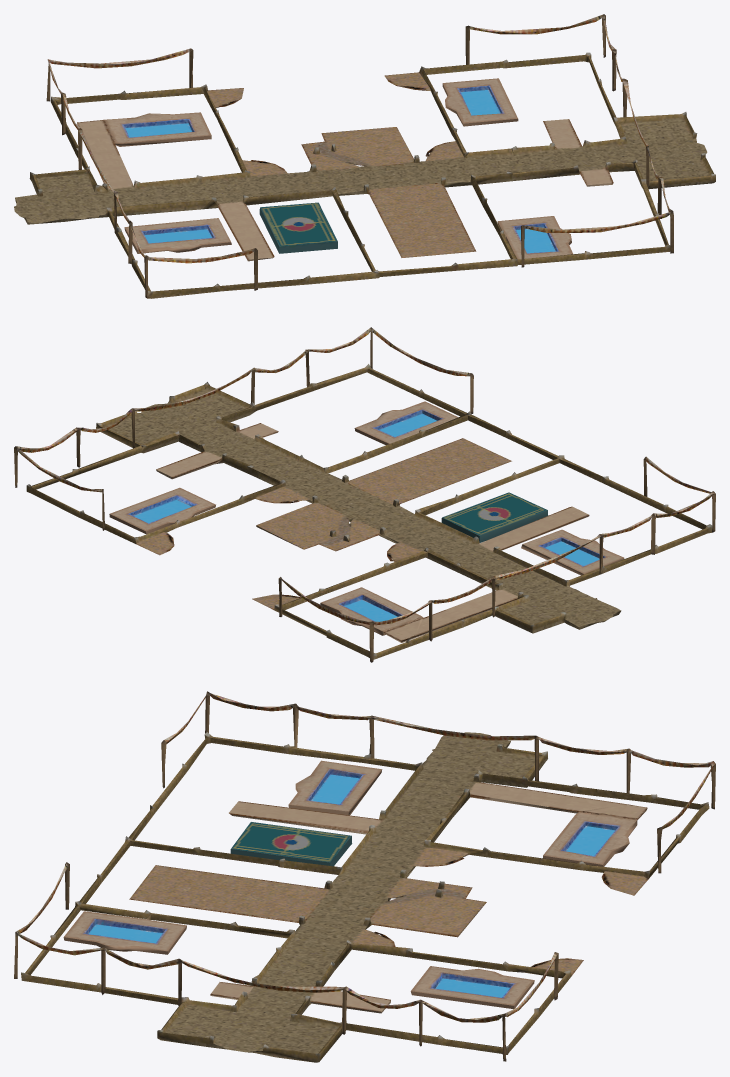
Rendered from clod_town_t03_clod_000.gltf.
The picture shows the model from 3 angles, top to bottom: view 1: azimuth 30°, elevation 25°; view 2: azimuth 150°, elevation 25°; view 3: azimuth 270°, elevation 25°; orthographic projection. The views are drawn at different scales.
Visible parts, largest first — view 1: clod_town_t03_clod_000_000_meshShape:remesh_mat; view 2: clod_town_t03_clod_000_000_meshShape:remesh_mat; view 3: clod_town_t03_clod_000_000_meshShape:remesh_mat.
Part boxes in pixels (bbox=[...]): clod_town_t03_clod_000_000_meshShape:remesh_mat: bbox=[14, 14, 715, 298]; clod_town_t03_clod_000_000_meshShape:remesh_mat: bbox=[14, 327, 715, 662]; clod_town_t03_clod_000_000_meshShape:remesh_mat: bbox=[14, 691, 715, 1062].
Bounding box in the file's own units: 174 × 14.05 × 156.
1 material, 1 textured.
